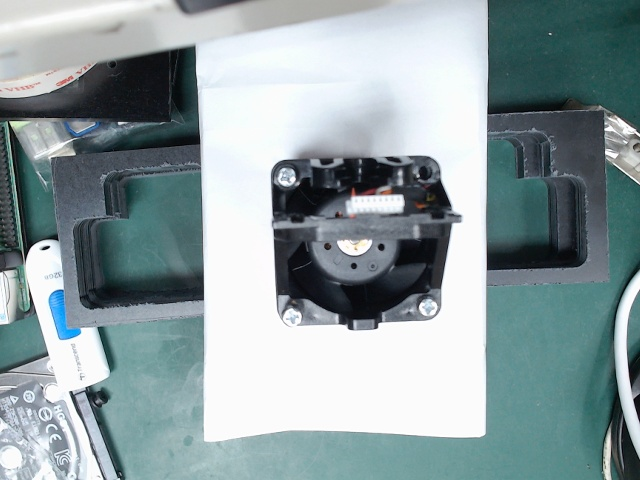Phase1_panel_missing: (242, 200, 470, 247)
Phase1_screw_loose: (259, 281, 323, 340), (261, 148, 310, 203)
